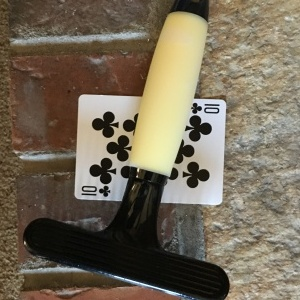card: (73, 94, 226, 206)
